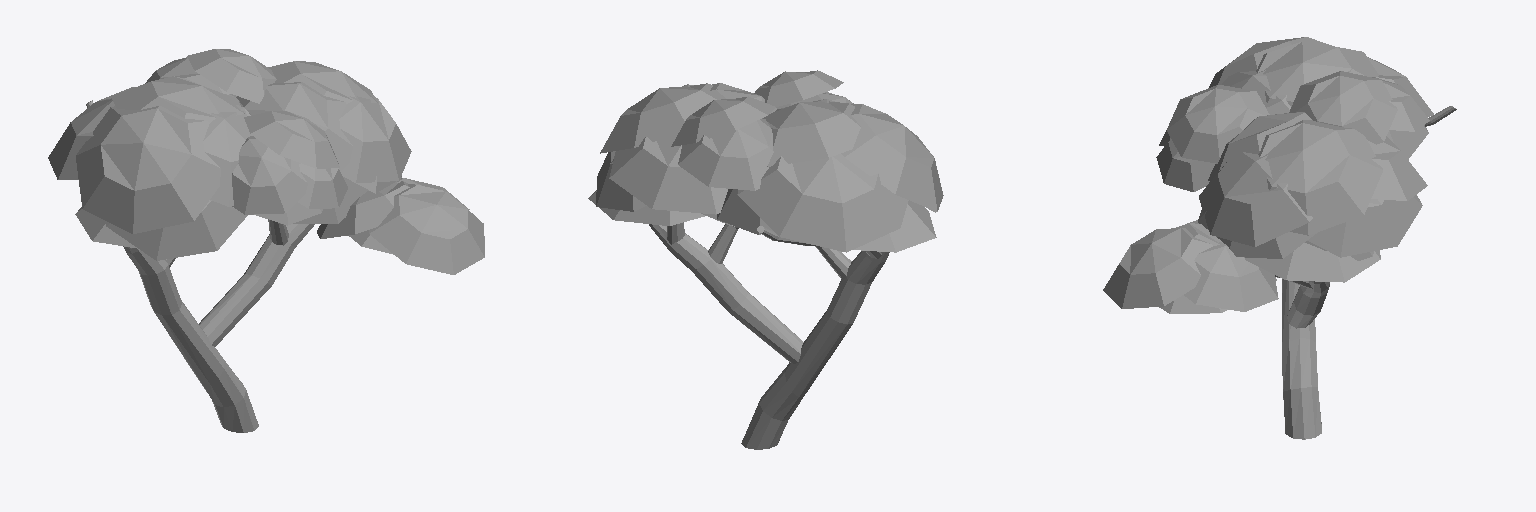
The model's file is Tree_3.obj.
3 views of the same model, side by side, from view 1: azimuth 30°, elevation 25°; view 2: azimuth 150°, elevation 25°; view 3: azimuth 270°, elevation 25° (orthographic).
Visible parts, largest first — view 1: Tree_3; view 2: Tree_3; view 3: Tree_3.
Boxes of the visible parts, <box> form: Tree_3: <box>48,49,484,432</box>; Tree_3: <box>588,70,943,449</box>; Tree_3: <box>1103,37,1456,439</box>.
Size of the model in its own units: 5.78 by 5.72 by 5.17.